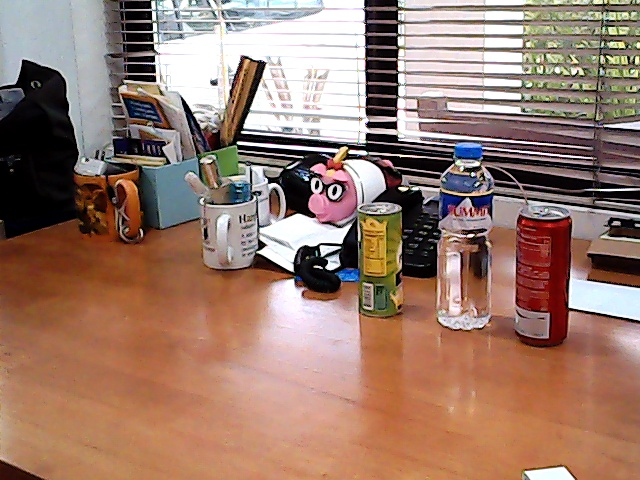Cola: (513, 205, 576, 347)
Pine Juice: (354, 203, 405, 320)
Summit Water: (432, 143, 500, 334)
